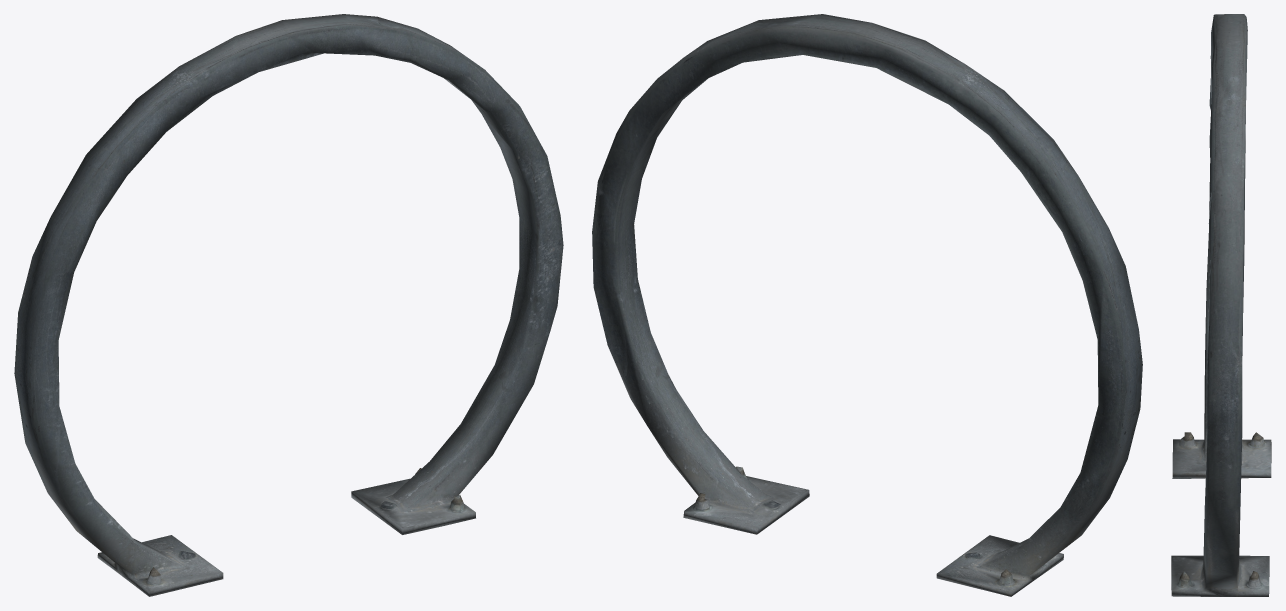
The model's file is rack2.glb.
The picture shows the model from 3 angles, left to right: view 1: azimuth 30°, elevation 25°; view 2: azimuth 150°, elevation 25°; view 3: azimuth 270°, elevation 25°; orthographic projection. The views are drawn at different scales.
Parts seen in each view (by area): view 1: uhcgehnfa_LOD0_TIER3_000; view 2: uhcgehnfa_LOD0_TIER3_000; view 3: uhcgehnfa_LOD0_TIER3_000.
Part boxes in pixels (box(x1,y1,x2,y2)): uhcgehnfa_LOD0_TIER3_000: box(14, 14, 563, 596); uhcgehnfa_LOD0_TIER3_000: box(592, 14, 1142, 596); uhcgehnfa_LOD0_TIER3_000: box(1171, 14, 1271, 596).
Bounding box in the file's own units: 0.9192 × 0.8419 × 0.1586.
Materials: 1 (1 with a texture image).
